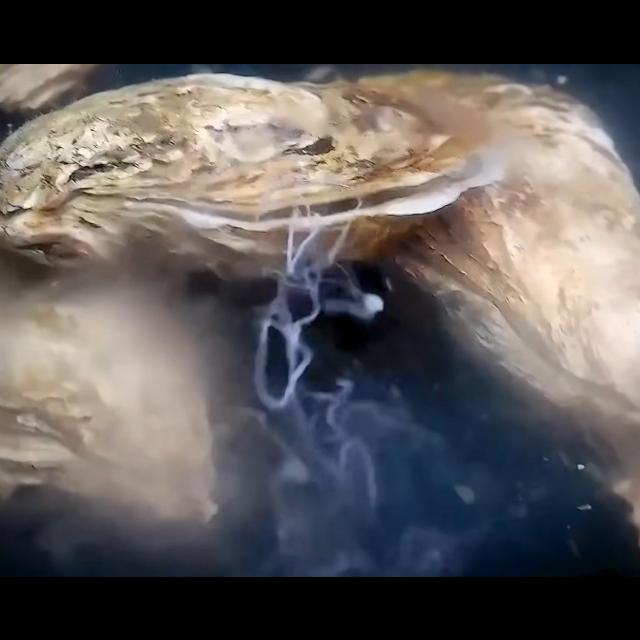Oyster-Closed: (361, 70, 640, 427), (0, 277, 220, 528)
Oyster-Open: (0, 74, 506, 282), (0, 63, 100, 111)
